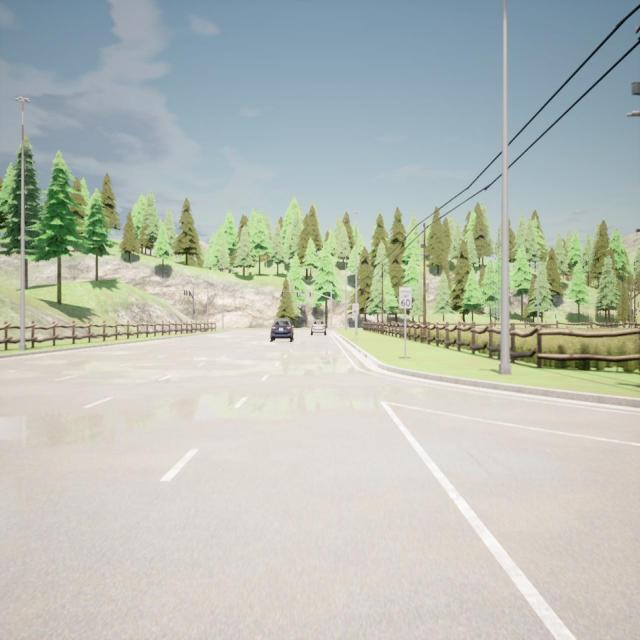Traffic_Signs: (399, 288, 411, 309), (353, 304, 359, 315)
Vehicle: (270, 318, 294, 342), (310, 318, 326, 336)
traffic_light: (281, 291, 283, 297), (310, 292, 311, 298), (184, 290, 185, 295), (193, 309, 194, 314), (297, 292, 298, 297), (186, 291, 187, 296), (189, 292, 190, 296)
